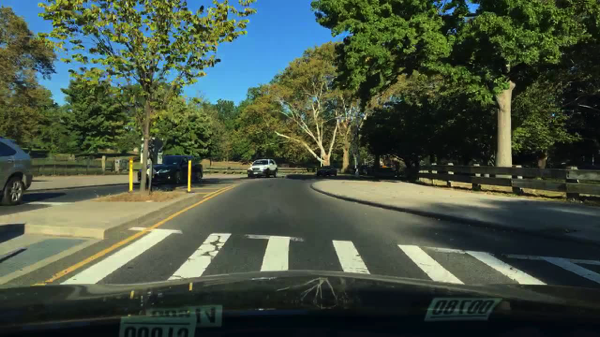car: (135, 153, 204, 189), (0, 137, 34, 206), (247, 159, 278, 179), (314, 164, 337, 177), (378, 166, 395, 178), (395, 172, 404, 179)
